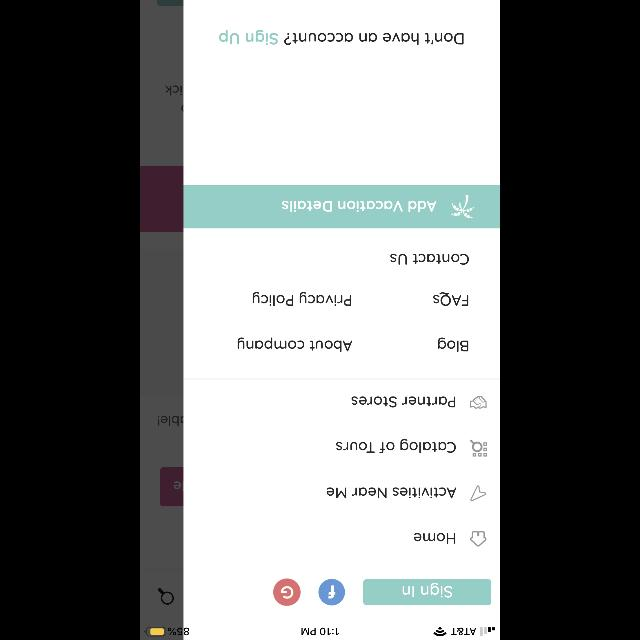icon: (274, 578, 300, 606), (318, 579, 344, 605), (469, 439, 486, 456), (470, 485, 486, 501), (158, 588, 174, 604), (470, 532, 486, 546)
image: (469, 396, 486, 408)
panel: (184, 1, 500, 640)
text: (219, 30, 463, 44), (336, 438, 456, 454), (238, 338, 352, 352), (253, 292, 351, 306), (326, 488, 456, 498), (352, 397, 454, 408), (391, 253, 469, 264), (432, 292, 468, 306), (414, 532, 454, 544), (438, 338, 468, 352)
textbutton: (184, 186, 500, 228), (363, 579, 491, 605)
uppertaskbar: (140, 626, 500, 640)
